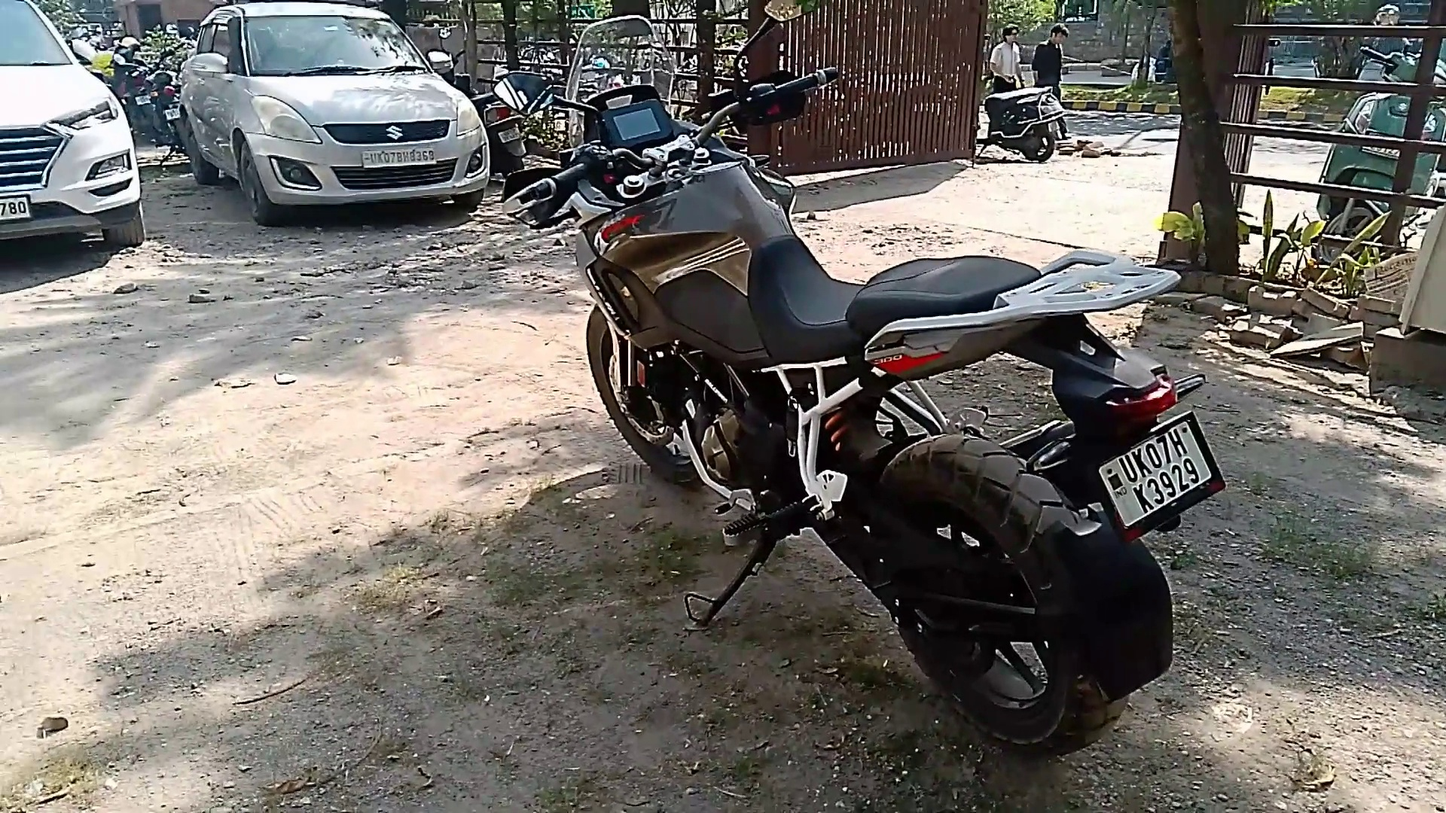engine-casing-left: (698, 410, 738, 485)
side-stand: (687, 540, 772, 621)
